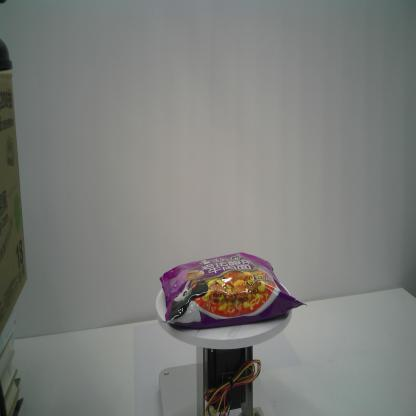Instant Noodles: (159, 250, 307, 332)
